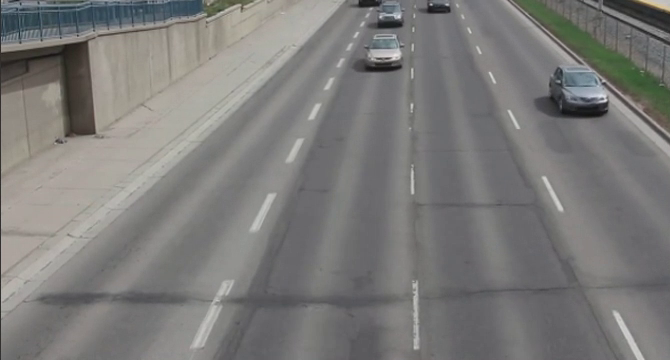car: (544, 65, 615, 116), (363, 33, 406, 72), (380, 2, 408, 28)
